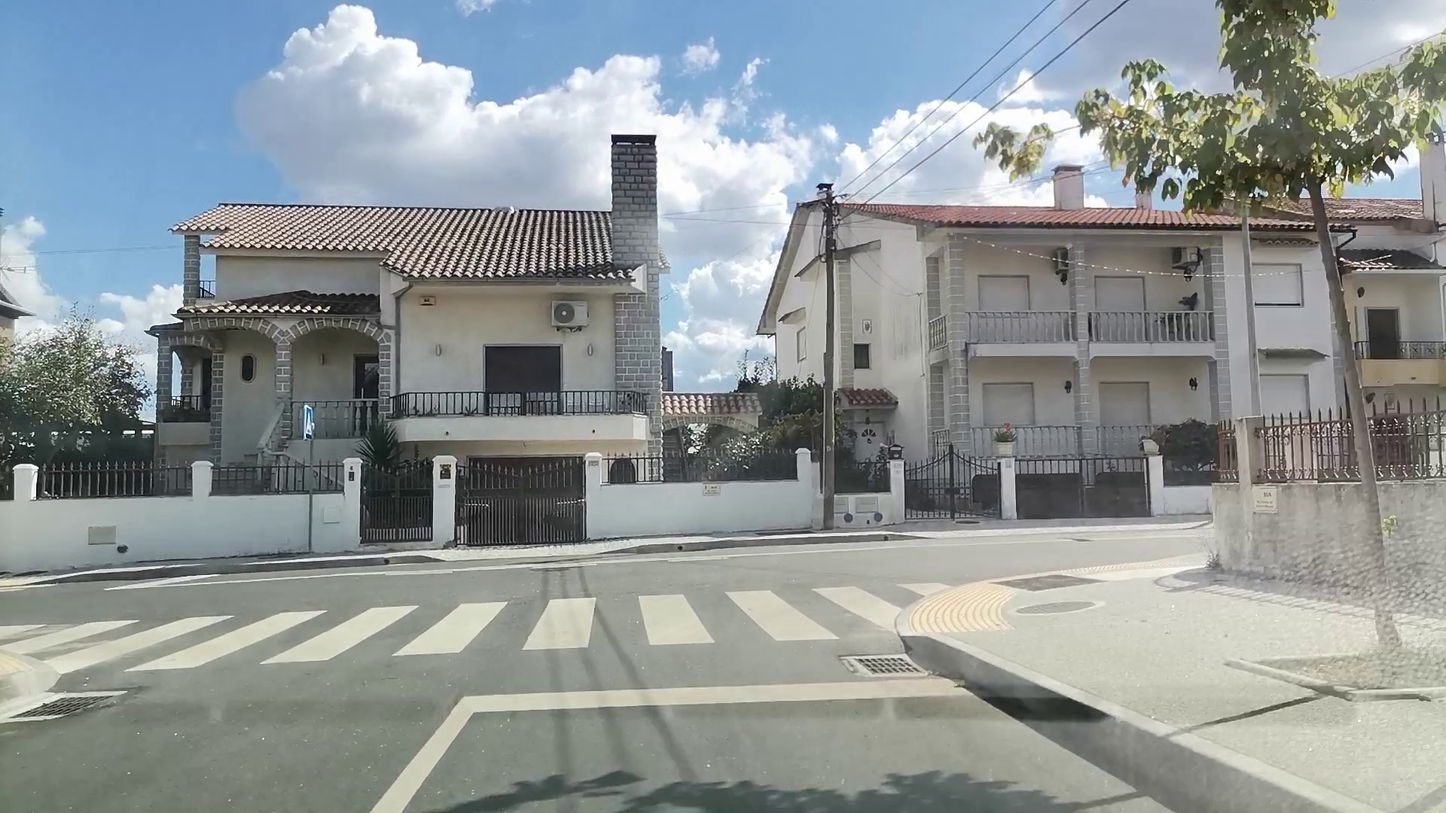Stairs: (0, 578, 949, 671)
